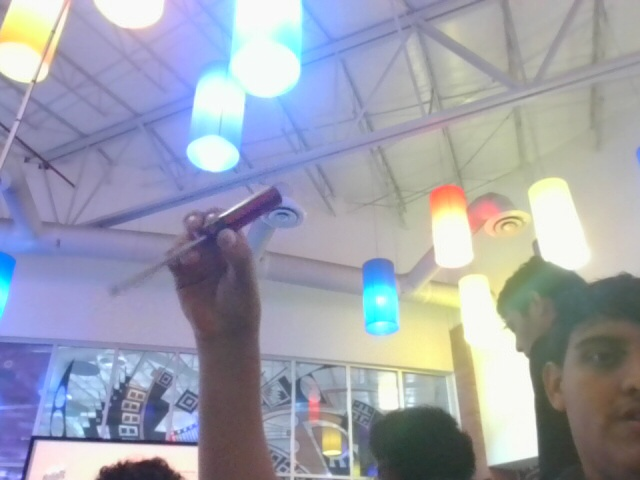destornillador: (123, 186, 285, 291)
